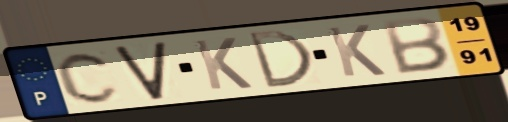B: (380, 15, 454, 76)
C: (53, 49, 123, 105)
D: (244, 28, 317, 90)
K: (190, 36, 256, 92), (323, 23, 389, 79)
V: (111, 39, 168, 103)
